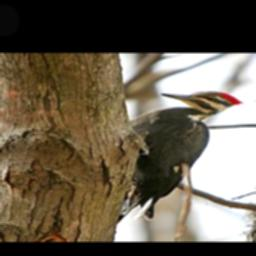Woodpecker: (115, 90, 245, 224)
